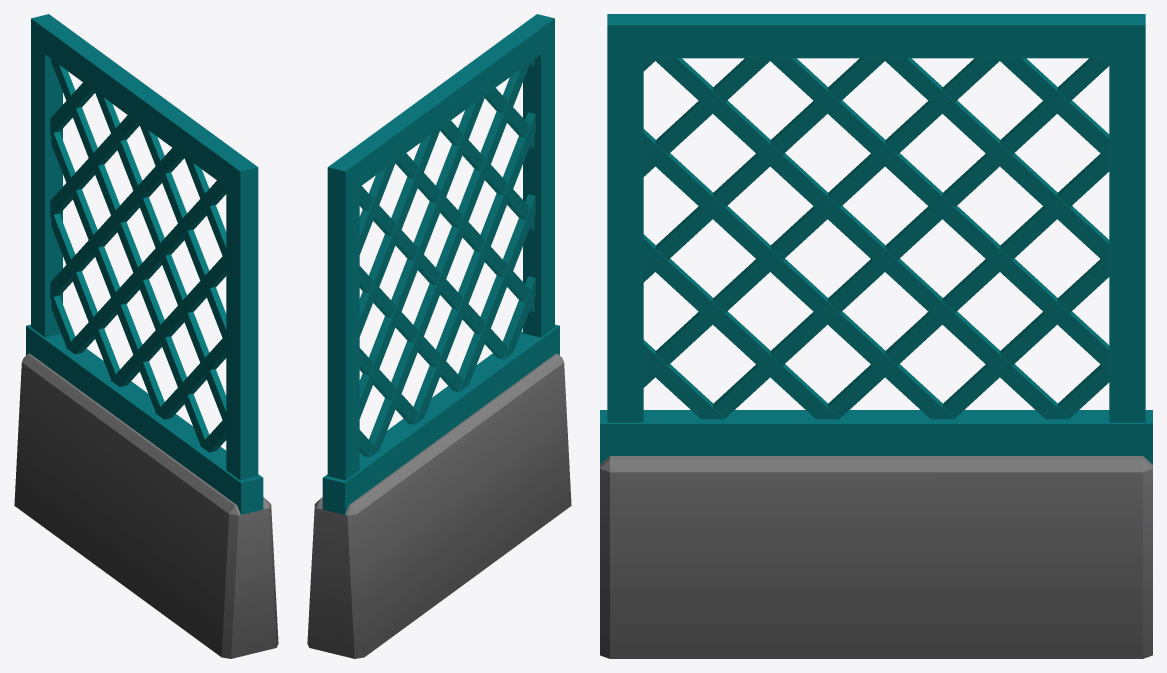
Rendered from Fence_1_C_7.fbx.
3 views of the same model, side by side, from view 1: azimuth 30°, elevation 25°; view 2: azimuth 150°, elevation 25°; view 3: azimuth 270°, elevation 25° (orthographic). The views are drawn at different scales.
Parts seen in each view (by area): view 1: Fence_1_C_7; view 2: Fence_1_C_7; view 3: Fence_1_C_7.
Boxes of the visible parts, x1=… form: Fence_1_C_7: x1=14, y1=14, x2=278, y2=658; Fence_1_C_7: x1=307, y1=14, x2=571, y2=658; Fence_1_C_7: x1=600, y1=14, x2=1152, y2=658.
Size of the model in its own units: 30.52 by 248 by 200.
